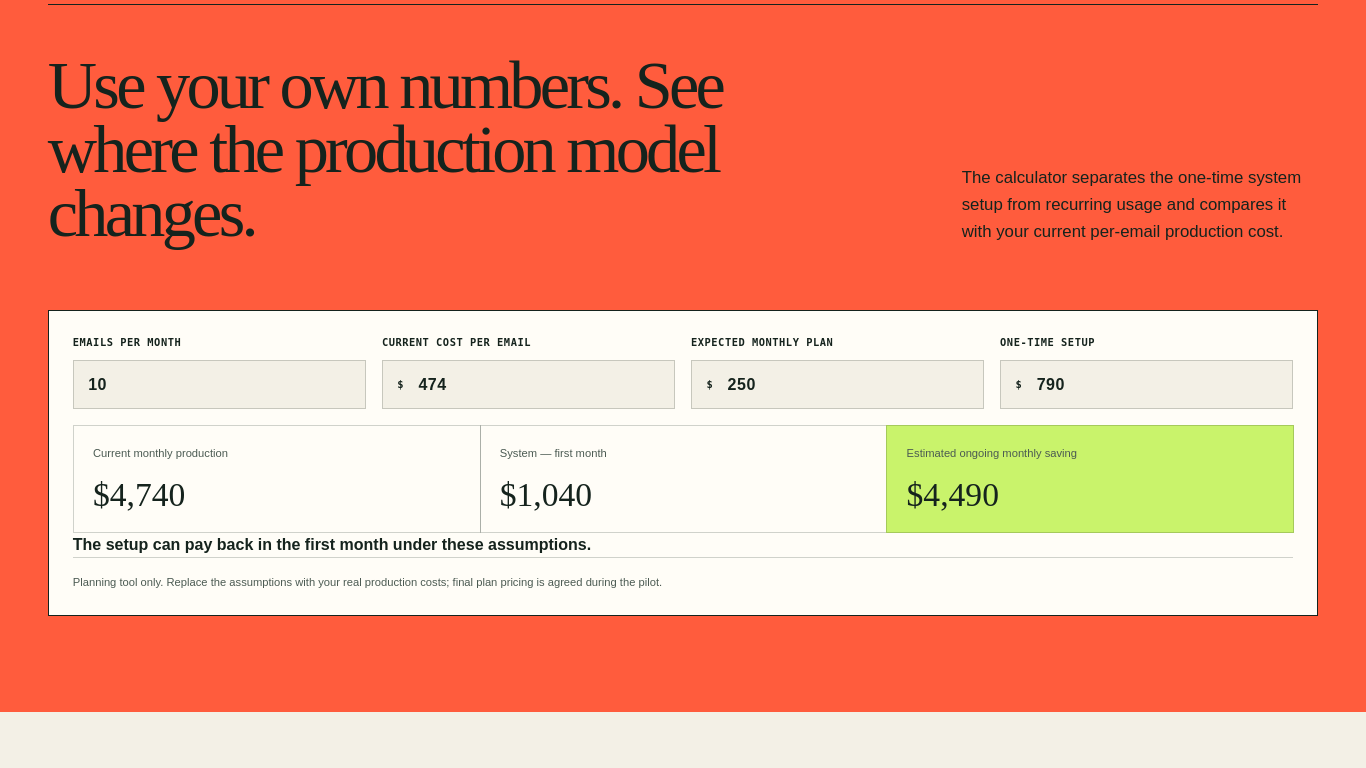
Scenario: ASAP Mail email-production landing page › calculates savings from editable assumptions
(page scrolled)
Replace the text in the number field labelled "Emails per month" with "5" at (219, 385), box [73,360,366,409]
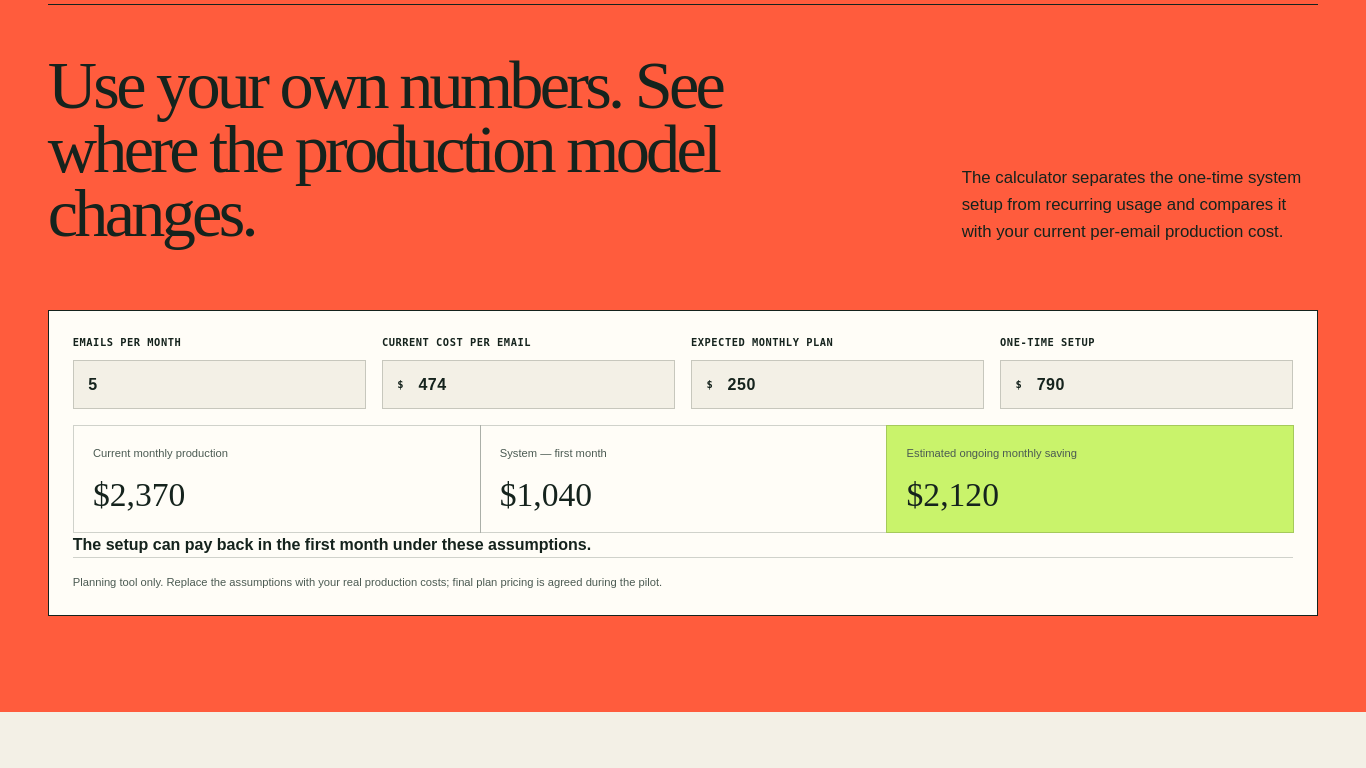
Check: the text "$1,040" is shown, box [500,476,592,513]
Check: the text "$2,370" is shown, box [93,476,185,513]
